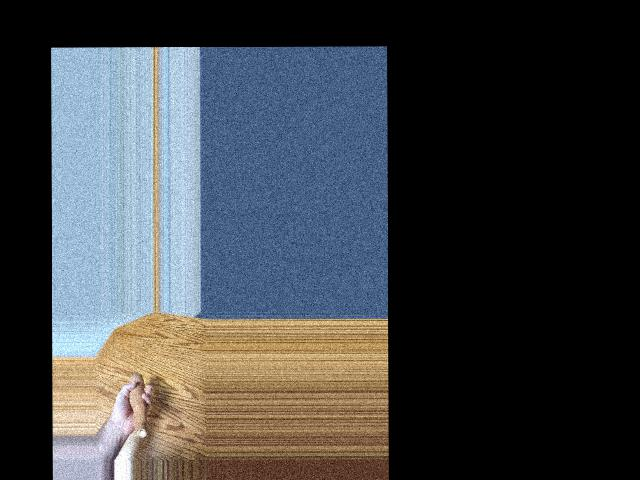sweet_potato: (132, 369, 149, 440)
